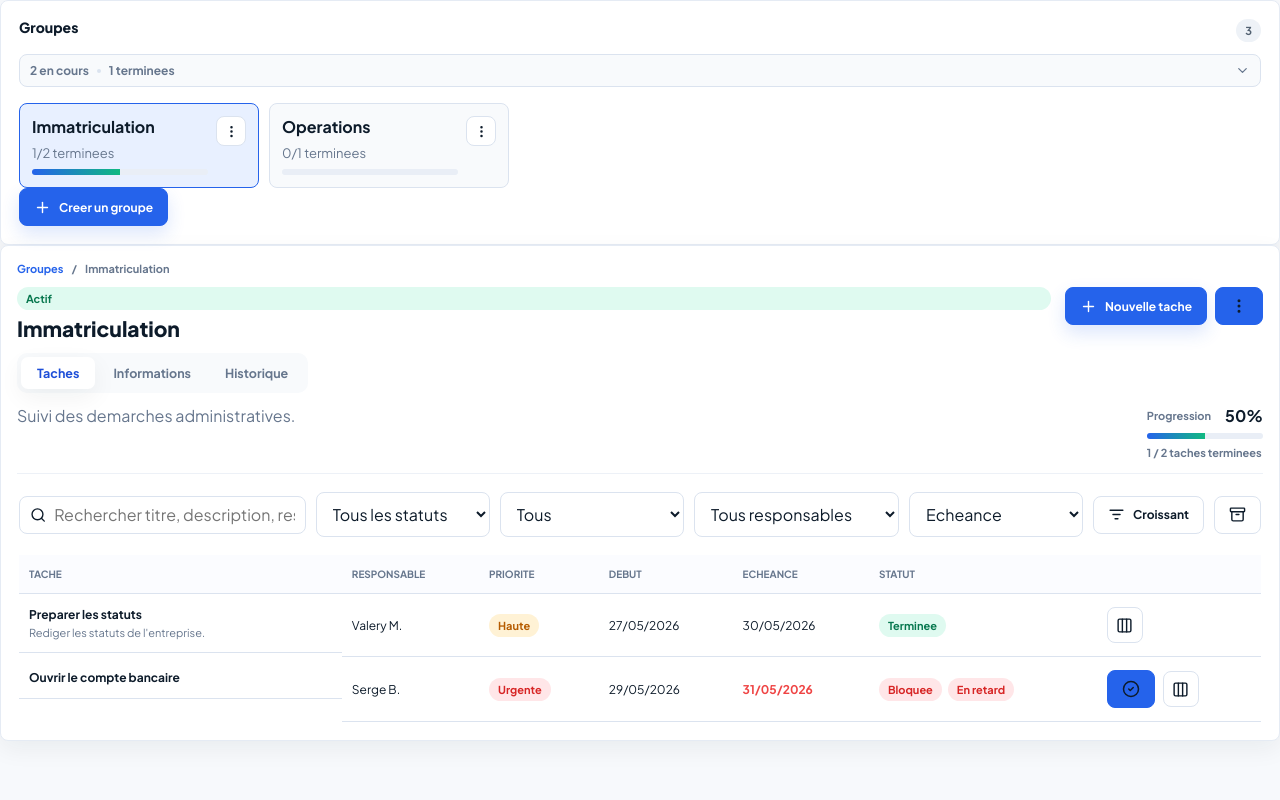
TaskWorkspace › lets the user switch the group list to completed groups only
The image size is (1280, 800).
What coordinates should you click on to do the following:
click the button "2 en cours 1 terminees"
I would click on:
 (63, 70)
Its box is [19, 54, 1261, 87].
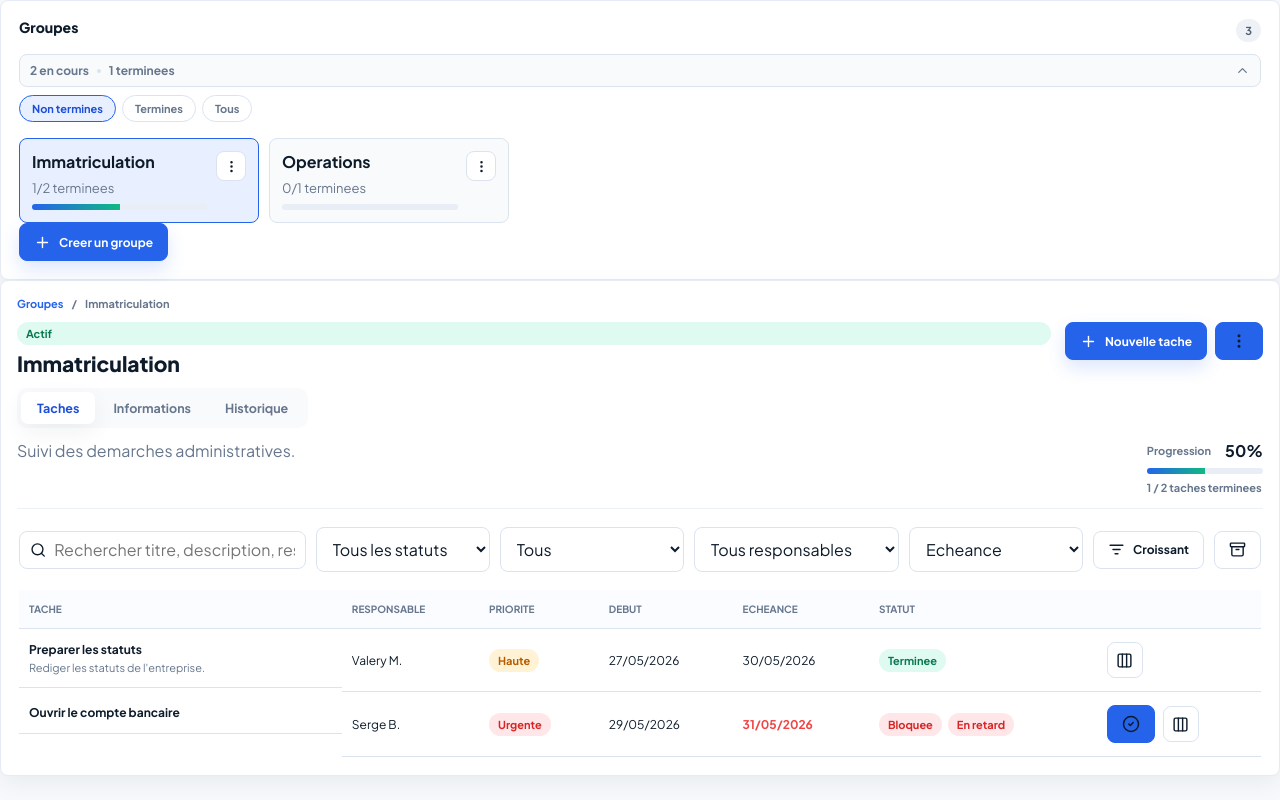
What coordinates should you click on to do the following:
click the button "Termines"
I would click on:
 (159, 108)
Its box is [122, 95, 196, 122].
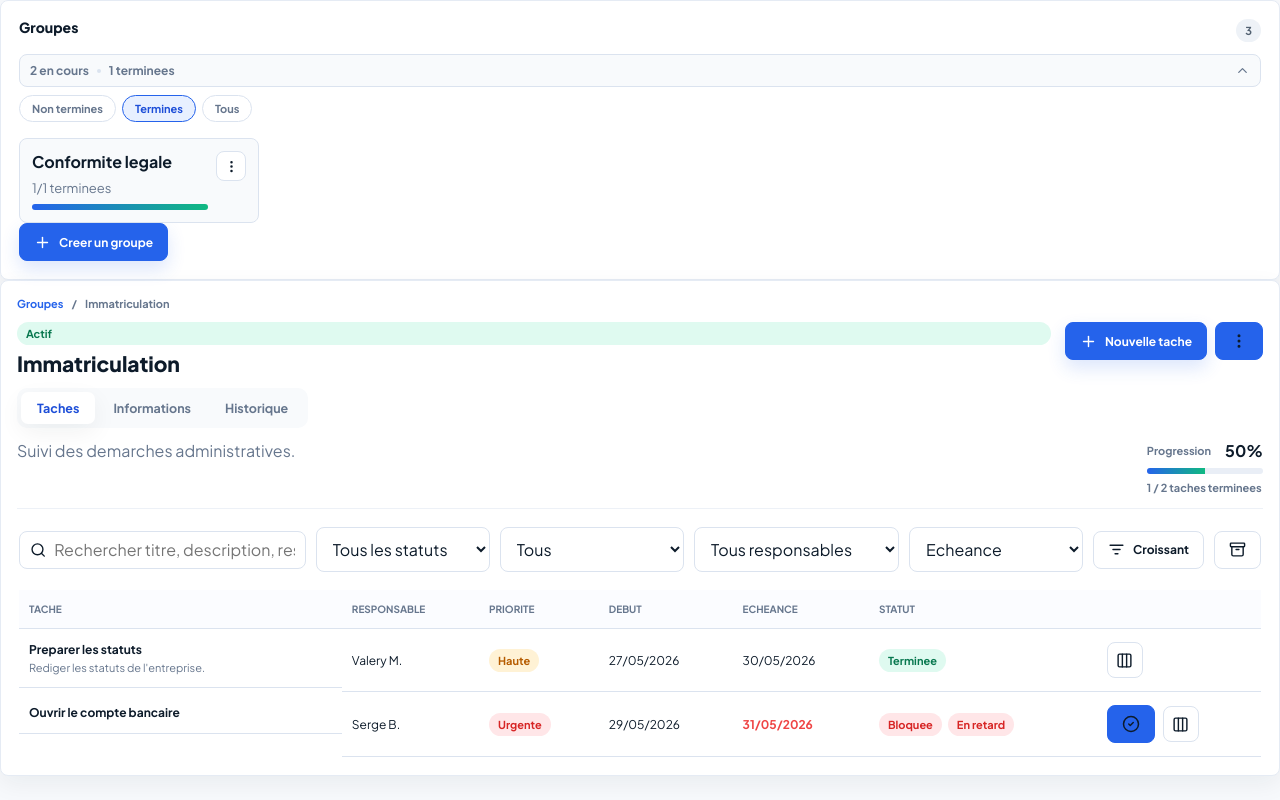
Expected: the button "Conformite legale 1/1 terminees" is shown, [32, 151, 208, 210]
Expected: the button "Operations" is gone
